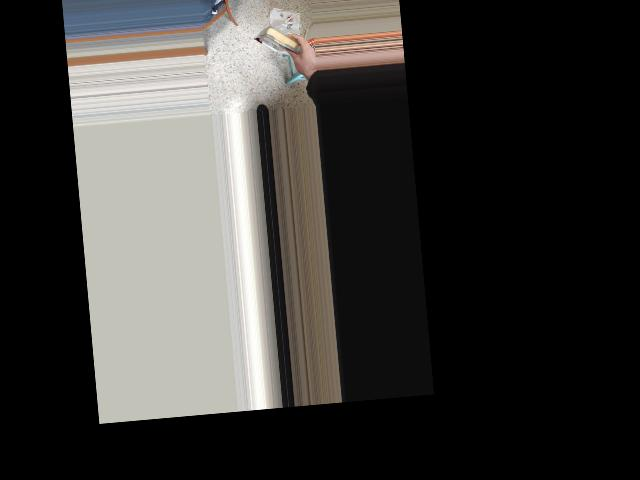cheese: (252, 20, 313, 62)
